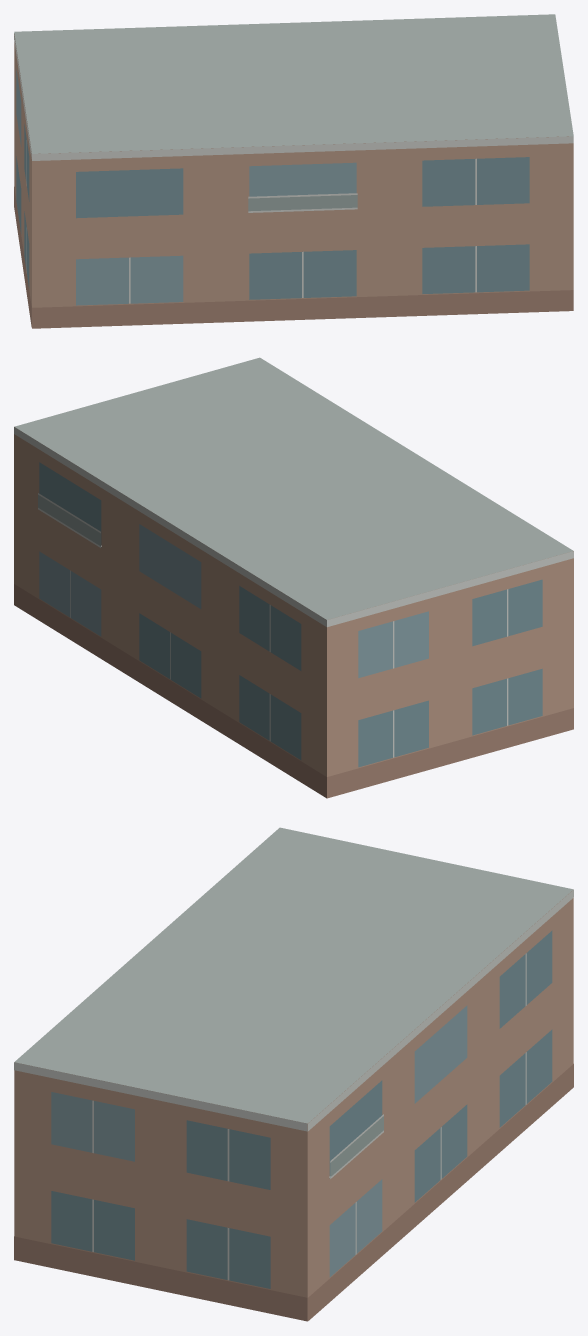
The model's file is survey-upis-33007320.glb.
3 renders of one model, top to bottom at view 1: azimuth 30°, elevation 25°; view 2: azimuth 150°, elevation 25°; view 3: azimuth 270°, elevation 25°, orthographic. The views are drawn at different scales.
Visible parts, largest first — view 1: survey-upis-33007320.tmp; view 2: survey-upis-33007320.tmp; view 3: survey-upis-33007320.tmp.
Boxes of the visible parts, box(x1,y1,x2,y2) form: survey-upis-33007320.tmp: box(14, 14, 573, 328); survey-upis-33007320.tmp: box(14, 357, 573, 798); survey-upis-33007320.tmp: box(14, 827, 573, 1321).
Bounding box in the file's own units: 19.27 × 6 × 15.39.
